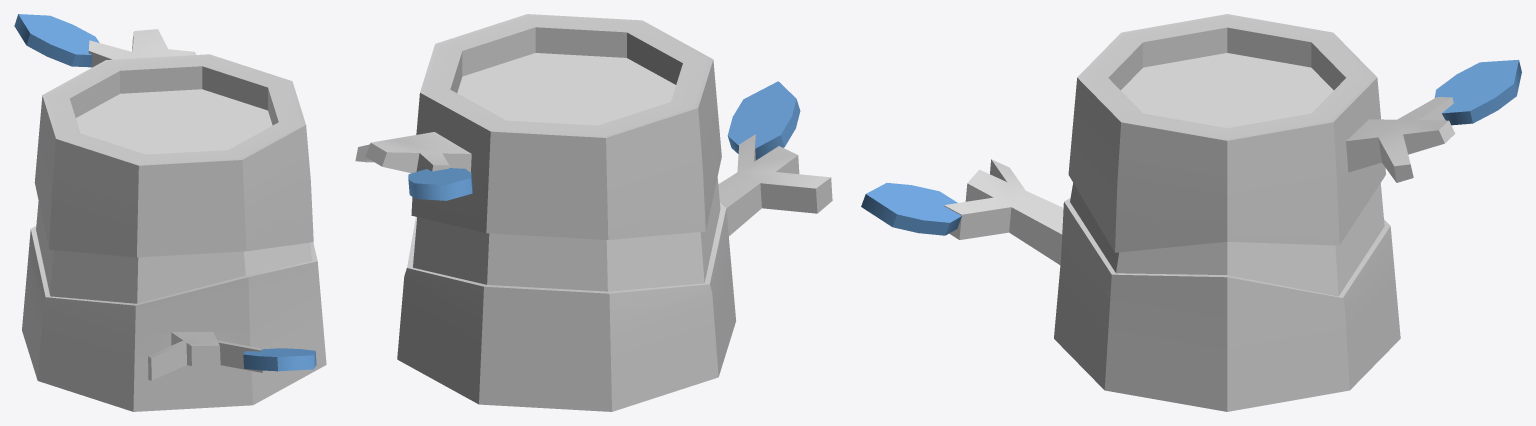
Rendered from Tree Root.fbx.
3 views of the same model, side by side, from view 1: azimuth 30°, elevation 25°; view 2: azimuth 150°, elevation 25°; view 3: azimuth 270°, elevation 25° (orthographic). The views are drawn at different scales.
Parts seen in each view (by area): view 1: root_tree; view 2: root_tree; view 3: root_tree.
Boxes of the visible parts, <box> form: root_tree: <box>14,14,326,411</box>; root_tree: <box>355,14,832,411</box>; root_tree: <box>861,14,1521,411</box>.
Bounding box in the file's own units: 35.94 × 30.5 × 68.47.
